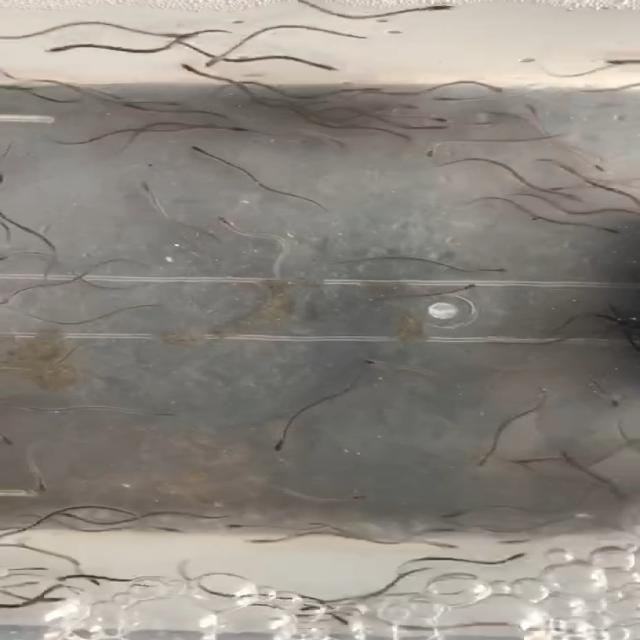active_glass_eel: (400, 0, 463, 20), (315, 491, 387, 505), (476, 82, 528, 101), (589, 52, 636, 70), (252, 438, 292, 459), (203, 110, 249, 128), (162, 29, 214, 43), (212, 522, 263, 536), (429, 91, 469, 108), (202, 212, 244, 228), (486, 551, 533, 565), (311, 59, 339, 82), (524, 385, 558, 403), (555, 446, 584, 467), (282, 598, 315, 616), (3, 83, 42, 98), (339, 84, 386, 96), (185, 142, 220, 158), (354, 356, 388, 372), (425, 116, 472, 127), (508, 458, 542, 472), (423, 143, 448, 162), (584, 157, 610, 175), (599, 398, 637, 410), (0, 429, 24, 448), (454, 280, 491, 292), (31, 480, 57, 497), (541, 184, 572, 198), (197, 49, 217, 70), (489, 262, 519, 276), (432, 524, 467, 536), (46, 511, 88, 521), (1, 249, 27, 265), (562, 194, 603, 204), (278, 106, 312, 118), (531, 153, 555, 170), (246, 536, 271, 552), (174, 63, 204, 76), (158, 526, 190, 538), (0, 292, 21, 310), (438, 508, 474, 518), (433, 540, 463, 552), (36, 43, 61, 57), (136, 181, 162, 194), (496, 536, 522, 549), (51, 572, 77, 585), (227, 125, 252, 138), (152, 93, 172, 108), (45, 594, 70, 606), (404, 96, 419, 114), (86, 580, 112, 590), (46, 581, 70, 591), (22, 580, 50, 588), (22, 564, 50, 571)
